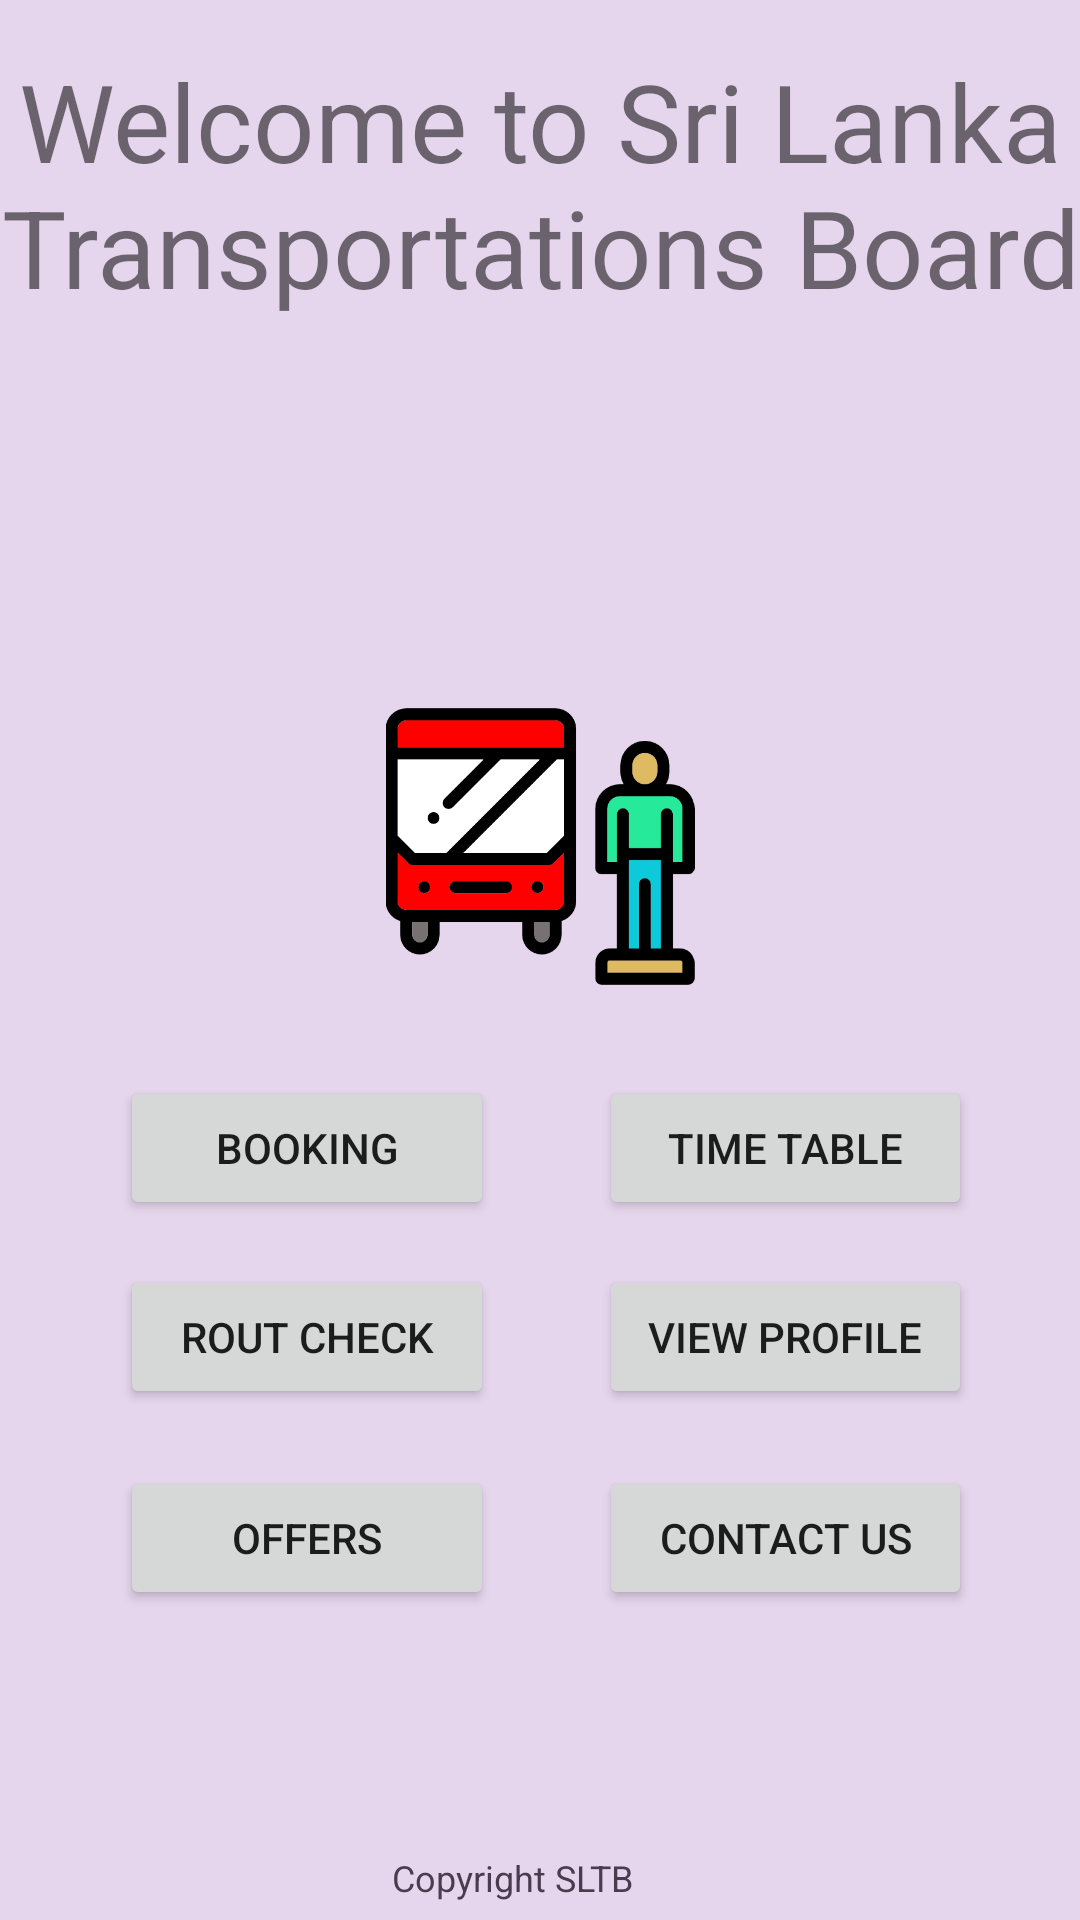

Where icons sit on this 1080x1920 app screen, as rect(x1, y1, x2, y2):
passenger: rect(386, 708, 695, 985)
